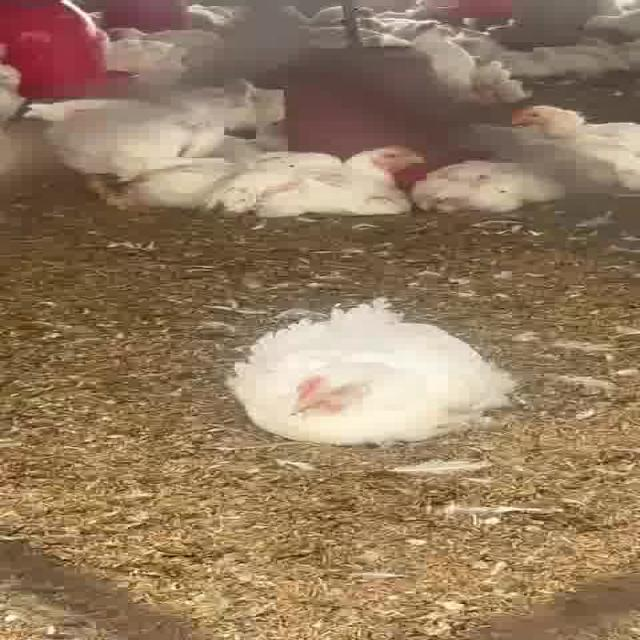AbNormal: (229, 318, 492, 444), (210, 146, 430, 222), (434, 156, 568, 214), (480, 100, 640, 146)
